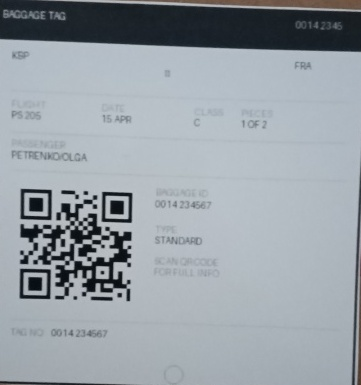LPN_bottom: (47, 323, 110, 340)
LPN_right: (149, 197, 215, 212)
